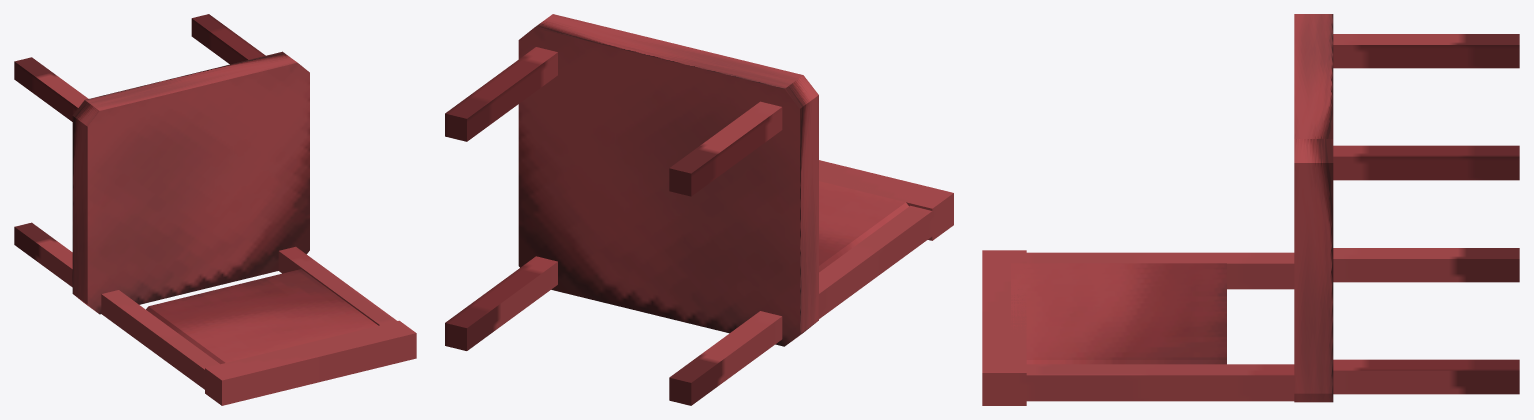
Rendered from pz_chair_seating_indoor_01_modern_red.obj.
3 views of the same model, side by side, from view 1: azimuth 30°, elevation 25°; view 2: azimuth 150°, elevation 25°; view 3: azimuth 270°, elevation 25° (orthographic). The views are drawn at different scales.
Size of the model in its own units: 0.64 by 0.575 by 1.03.
Materials: 1 (1 with a texture image).
